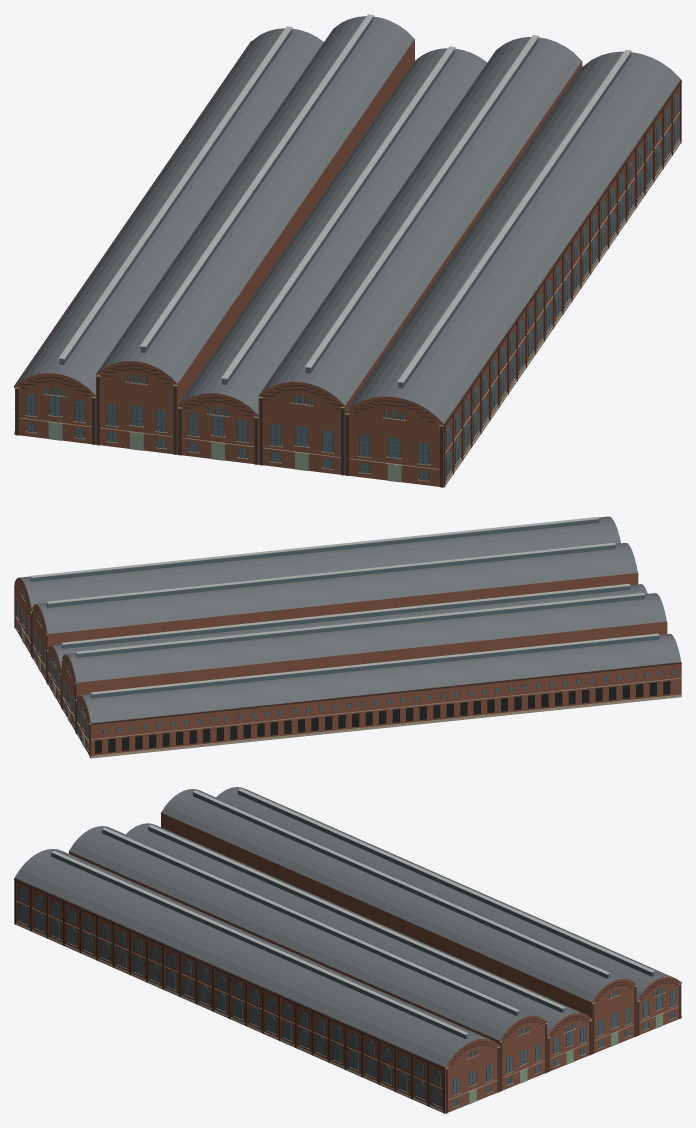
The model's file is van-gendt-hallen.glb.
3 views of the same model, one above another, from view 1: azimuth 30°, elevation 25°; view 2: azimuth 150°, elevation 25°; view 3: azimuth 270°, elevation 25° (orthographic). The views are drawn at different scales.
Parts seen in each view (by area): view 1: van-gendt-hallen; view 2: van-gendt-hallen; view 3: van-gendt-hallen.
Part boxes in pixels (<box>): van-gendt-hallen: <box>14,14,681,487</box>; van-gendt-hallen: <box>14,516,681,758</box>; van-gendt-hallen: <box>14,787,681,1113</box>.
Size of the model in its own units: 171 by 19.26 by 169.
